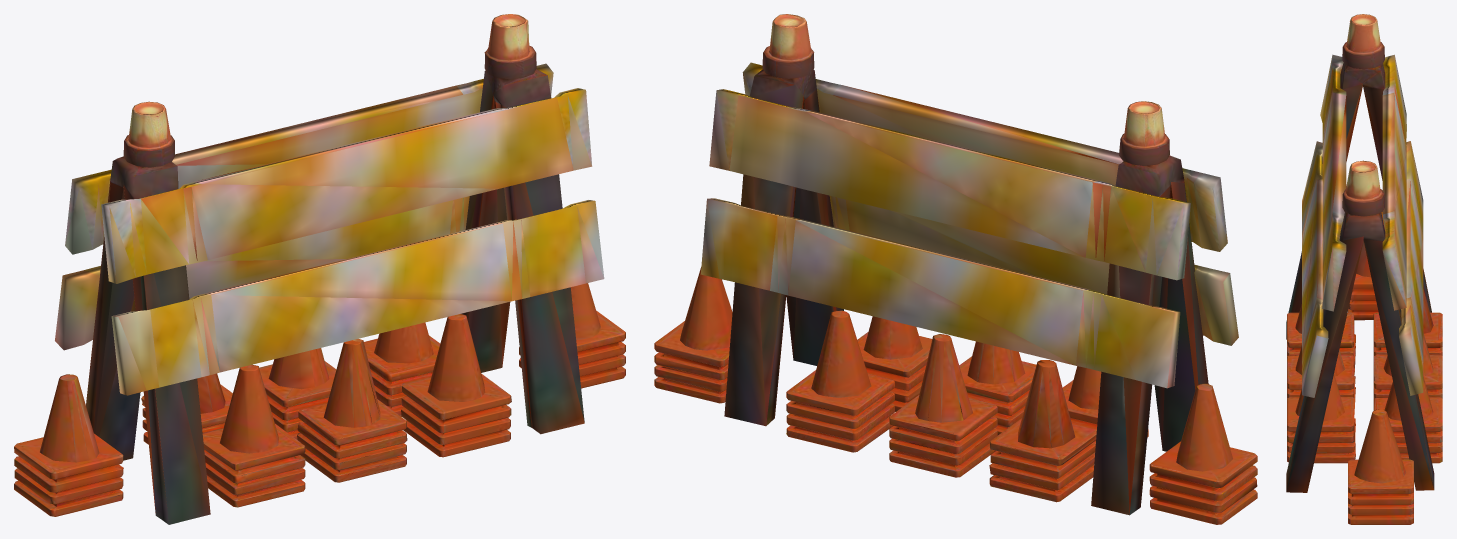
The model's file is 57-police-roadblock.glb.
3 renders of one model, left to right at view 1: azimuth 30°, elevation 25°; view 2: azimuth 150°, elevation 25°; view 3: azimuth 270°, elevation 25°, orthographic. The views are drawn at different scales.
Visible parts, largest first — view 1: geometry_0; view 2: geometry_0; view 3: geometry_0.
Part boxes in pixels (left/top/right/bottom): geometry_0: left=14, top=14, right=625, bottom=524; geometry_0: left=654, top=14, right=1257, bottom=524; geometry_0: left=1286, top=14, right=1442, bottom=524.
Size of the model in its own units: 0.9497 by 0.5933 by 0.2676.
Materials: 1 (1 with a texture image).
